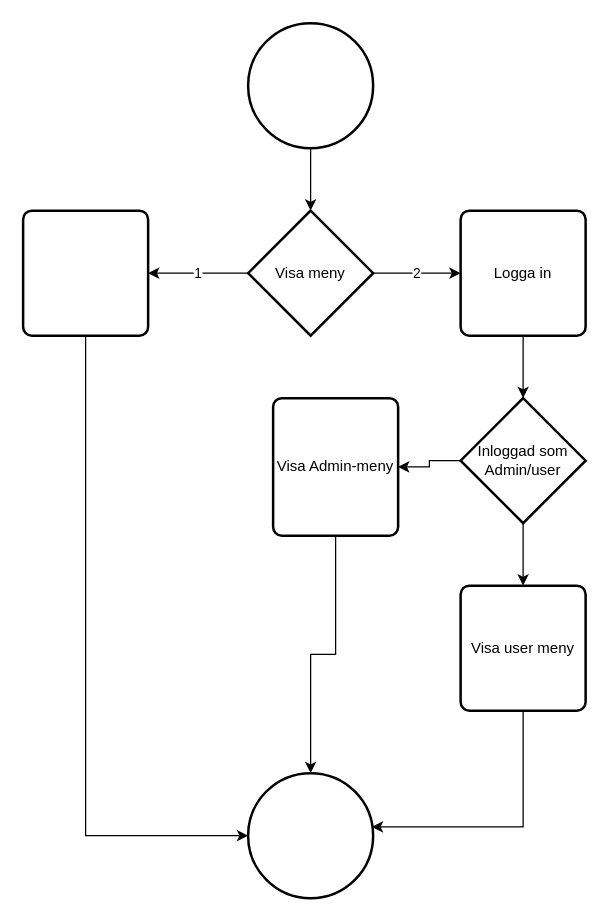
Some shapes in this 608 by 920 pixel diagram are drawn without their labels. Each missing label, with the centre of its shape:
"End" goes at point 310,835.
"Start" goes at point 310,85.
"Visar alla Event" goes at point 85,272.
